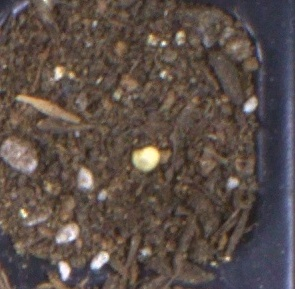chilli seed: (131, 146, 160, 173)
